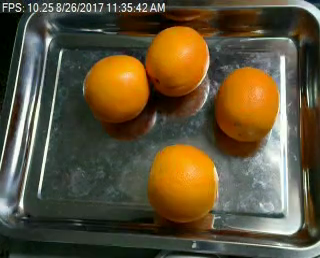Orange: (148, 144, 219, 222), (214, 66, 280, 142), (145, 25, 210, 97), (83, 53, 149, 122)
